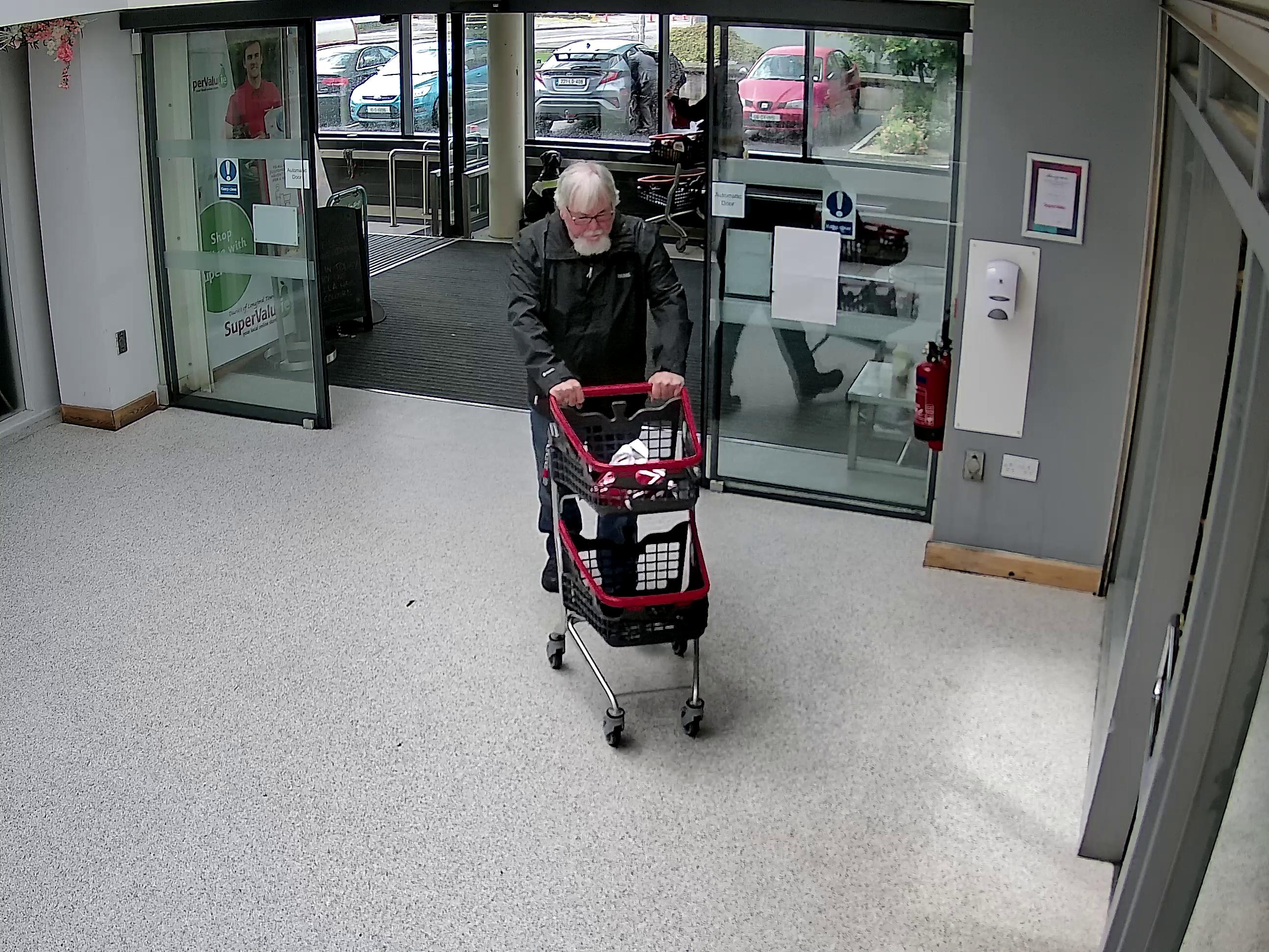empty-shopping-bags: (598, 441, 675, 501)
empty-trolly: (546, 376, 713, 749)
person: (507, 164, 692, 605)
person-with-basket-trolly-and-shopping-bag: (506, 162, 714, 745)
